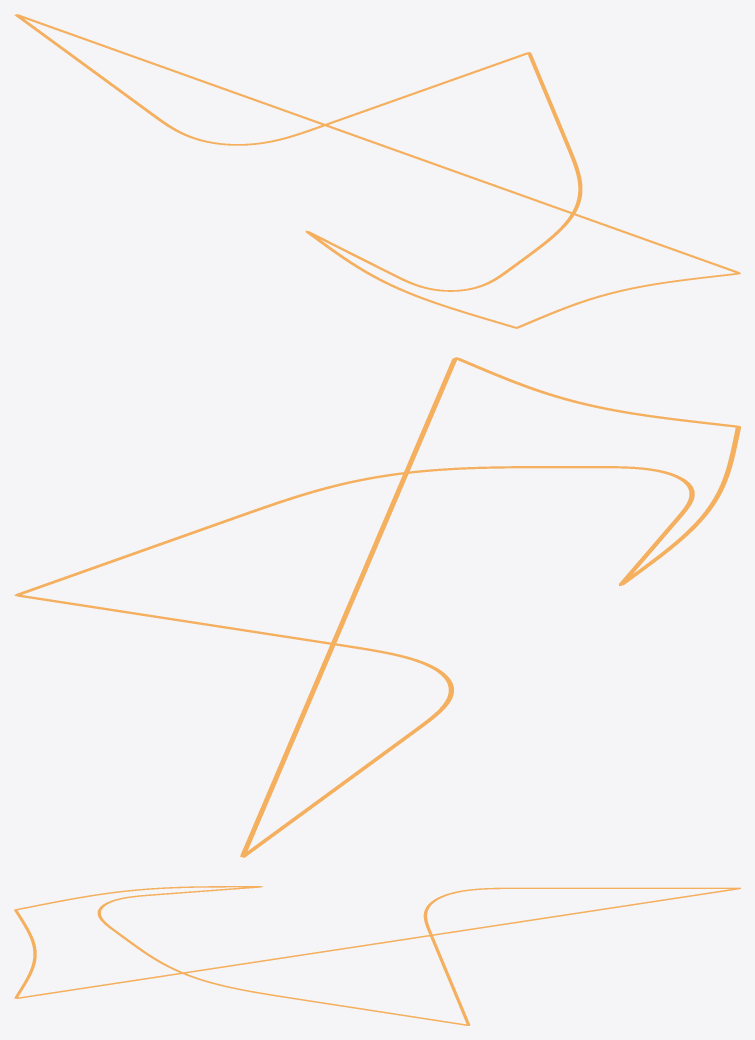
Rendered from a_1lazlgf1hqe4g-along-path2.glb.
The picture shows the model from 3 angles, top to bottom: view 1: azimuth 30°, elevation 25°; view 2: azimuth 150°, elevation 25°; view 3: azimuth 270°, elevation 25°; orthographic projection. The views are drawn at different scales.
Parts seen in each view (by area): view 1: along-path; view 2: along-path; view 3: along-path.
Part boxes in pixels (box(x1,y1,x2,y2)): along-path: box(14, 14, 740, 328); along-path: box(14, 357, 740, 857); along-path: box(14, 886, 740, 1025).
Size of the model in its own units: 3.87 by 0 by 8.49.
